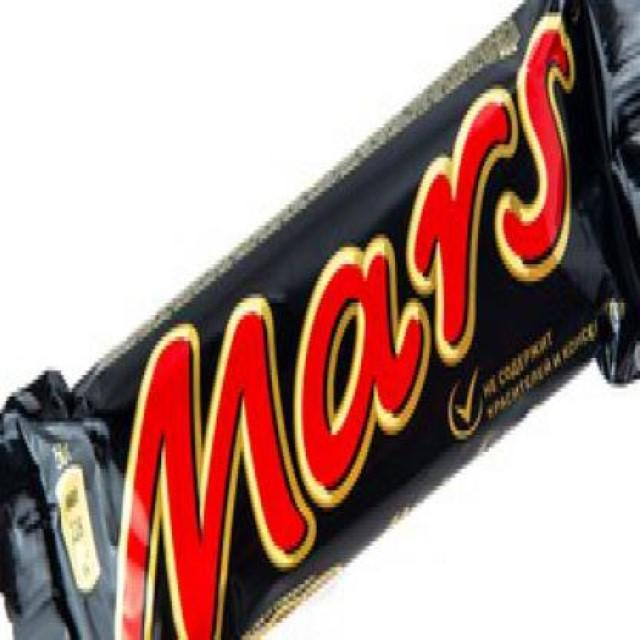mars_chocolate: (58, 20, 592, 640)
